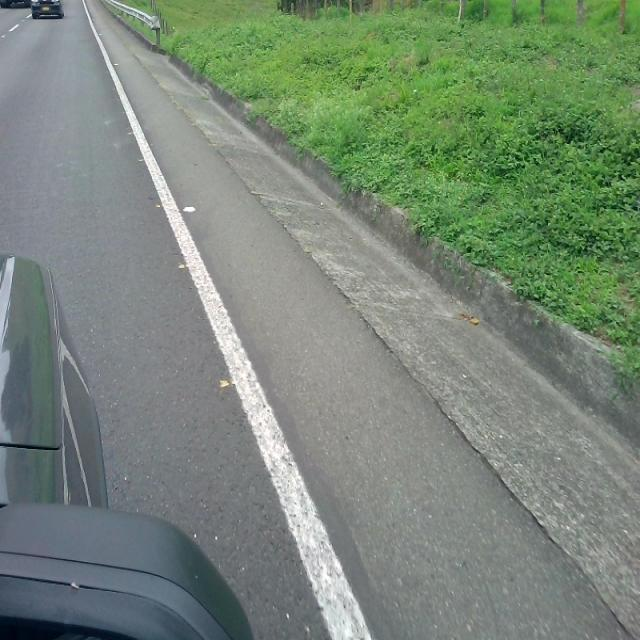DITCH: (2, 1, 638, 638), (4, 1, 638, 636), (81, 2, 639, 637)
